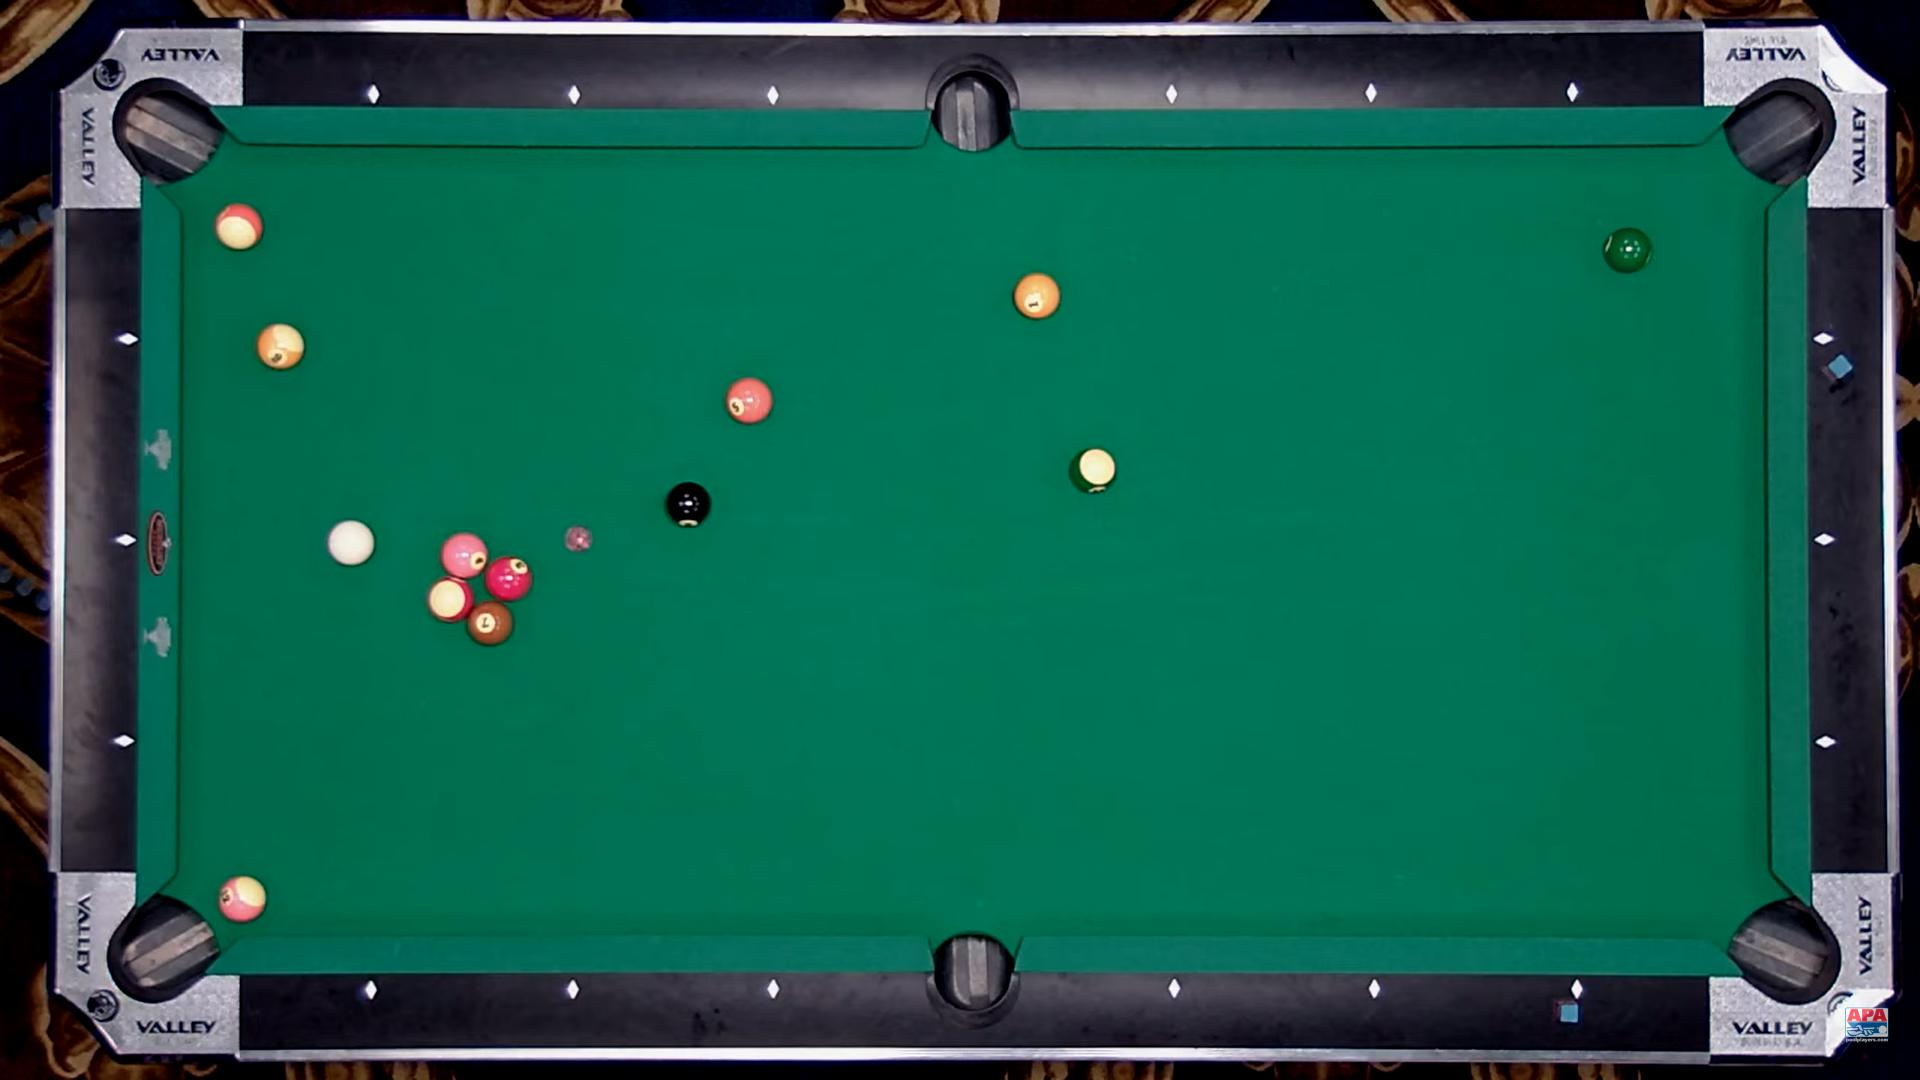Black: (666, 483, 712, 527)
Cue: (328, 520, 376, 564)
Dot: (364, 982, 378, 997), (566, 982, 580, 997), (766, 982, 781, 997), (1367, 981, 1382, 996), (1818, 735, 1833, 749), (1164, 87, 1179, 102), (766, 88, 781, 103), (1167, 982, 1182, 996), (1571, 982, 1584, 997), (1817, 533, 1832, 546), (1365, 86, 1378, 100), (567, 88, 582, 102), (367, 88, 381, 102), (121, 332, 135, 347), (117, 735, 131, 749), (1817, 332, 1830, 345), (1567, 86, 1580, 99), (120, 534, 133, 547)
Solid: (1602, 228, 1652, 273), (484, 556, 531, 603), (467, 600, 513, 646), (1013, 273, 1059, 319), (442, 534, 488, 579), (727, 378, 771, 425)
Striped: (219, 876, 266, 923), (215, 203, 264, 249), (1069, 448, 1118, 495), (257, 323, 305, 369), (429, 576, 473, 622)
